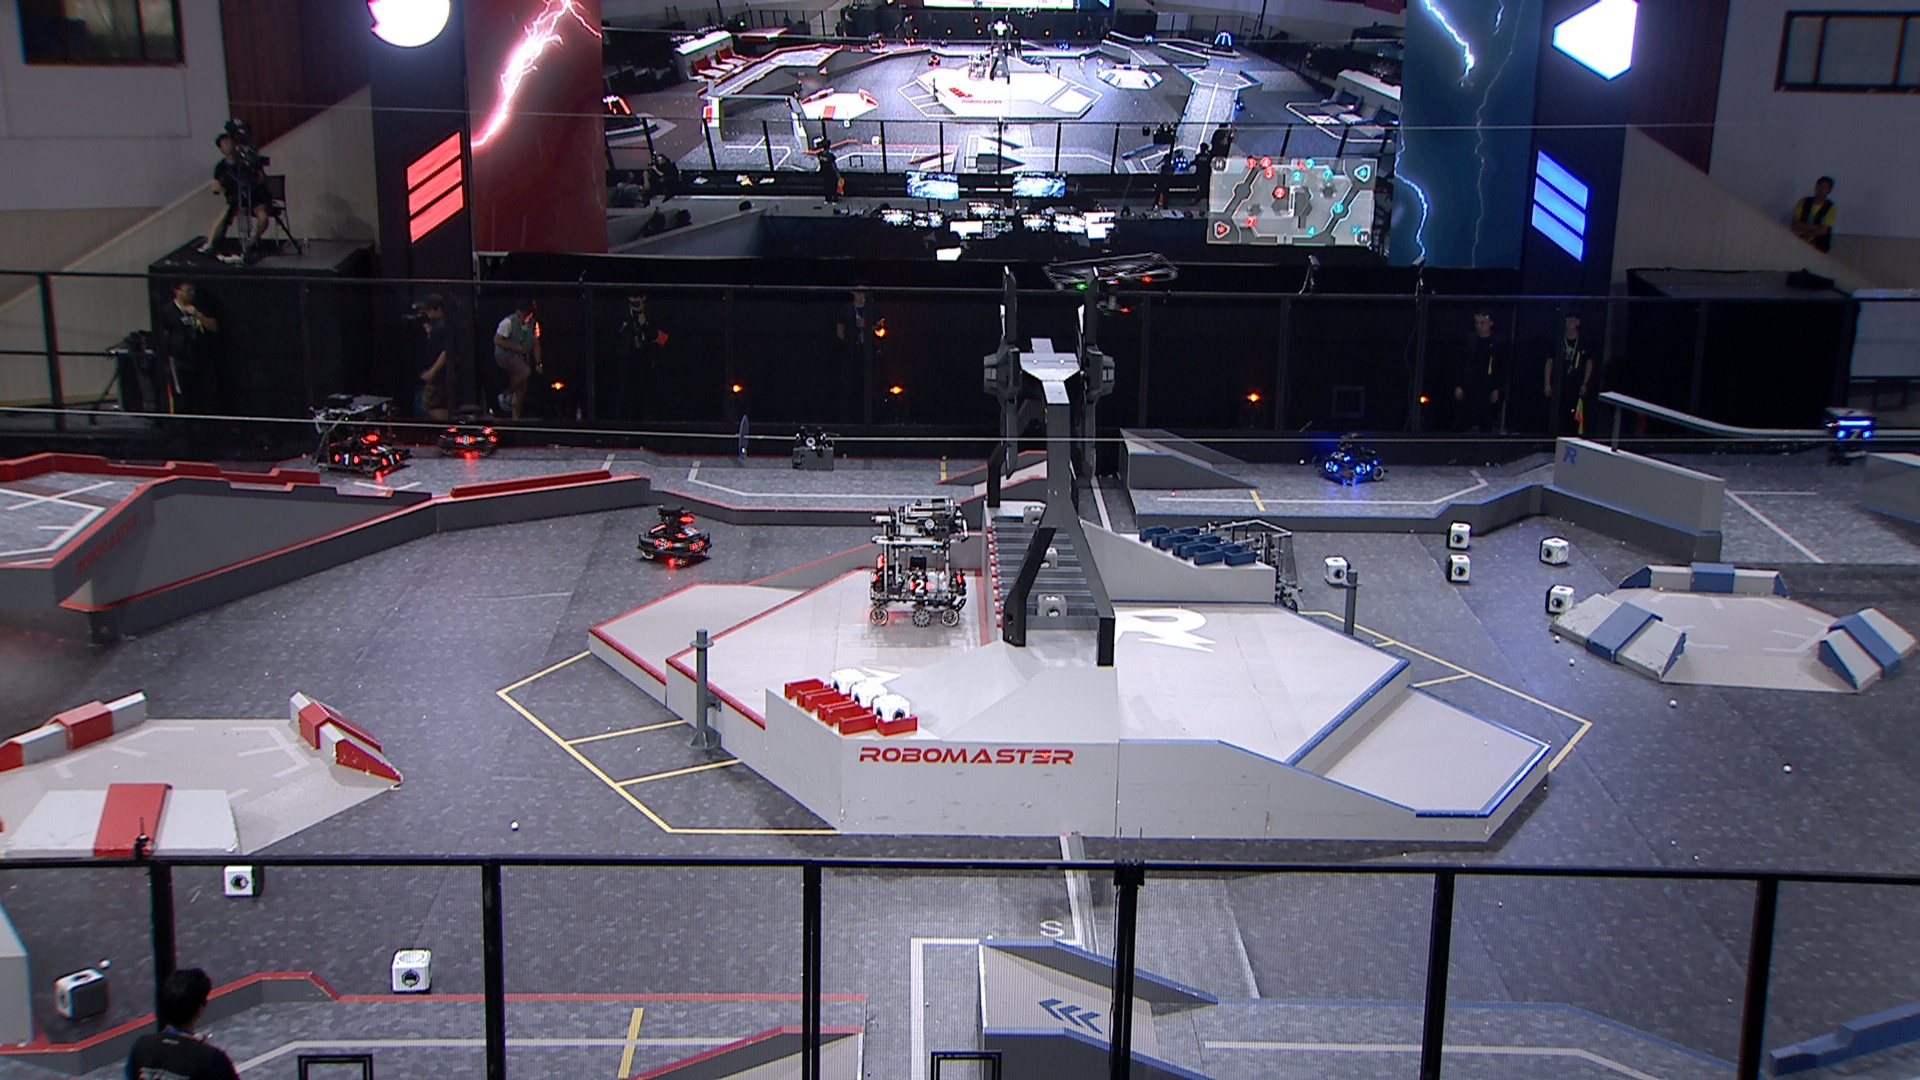armor: (1836, 427, 1874, 444), (330, 450, 363, 469), (671, 522, 700, 541), (909, 574, 931, 597), (378, 448, 404, 469), (452, 431, 481, 446), (1353, 458, 1373, 477), (651, 533, 673, 551), (684, 535, 705, 553), (371, 442, 394, 455), (1323, 458, 1338, 475), (1329, 448, 1349, 462)
car: (864, 495, 975, 632), (305, 392, 417, 479), (633, 502, 717, 568), (1315, 431, 1390, 485), (434, 404, 505, 458)
ignore: (597, 95, 642, 133), (1207, 30, 1238, 57), (1166, 145, 1192, 167), (864, 32, 889, 53), (775, 92, 804, 109), (922, 50, 945, 67), (1139, 30, 1156, 49)
watcher: (1820, 404, 1878, 467)
